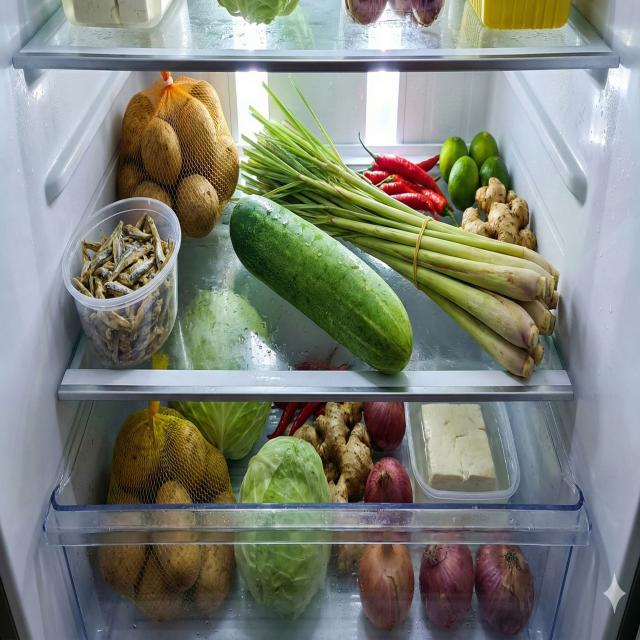anchovies: (71, 210, 177, 365)
cabbage: (233, 434, 333, 622), (168, 287, 273, 462)
chili: (358, 131, 460, 229), (266, 402, 326, 440)
cucumber: (229, 195, 413, 375)
ginger: (315, 398, 374, 506)
lemongrass: (234, 74, 560, 378)
lime: (439, 132, 509, 212)
onion: (475, 543, 535, 636), (358, 543, 414, 630), (419, 543, 475, 630), (364, 456, 414, 504), (363, 402, 406, 453)
potato: (98, 411, 238, 624), (117, 82, 239, 240)
tofu: (418, 404, 496, 490)
